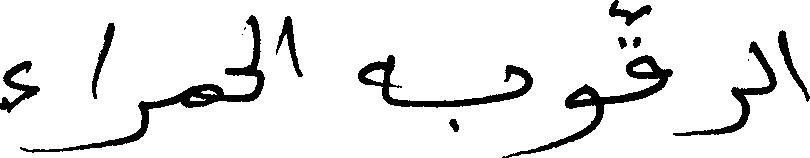X: (627, 0, 667, 106), (0, 56, 38, 157), (226, 10, 264, 106), (90, 18, 115, 152), (695, 82, 747, 139), (565, 79, 602, 148), (506, 60, 532, 157), (778, 25, 809, 106), (358, 50, 393, 109), (117, 96, 148, 149), (751, 36, 776, 99), (182, 79, 224, 112), (284, 11, 302, 81)
